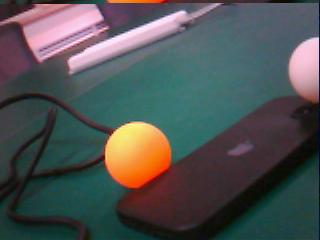oball: (105, 120, 171, 189)
